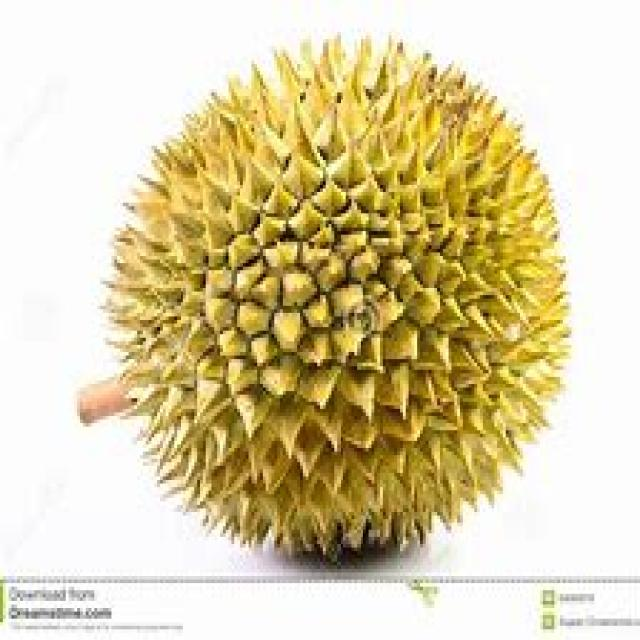mature: (79, 40, 568, 559)
